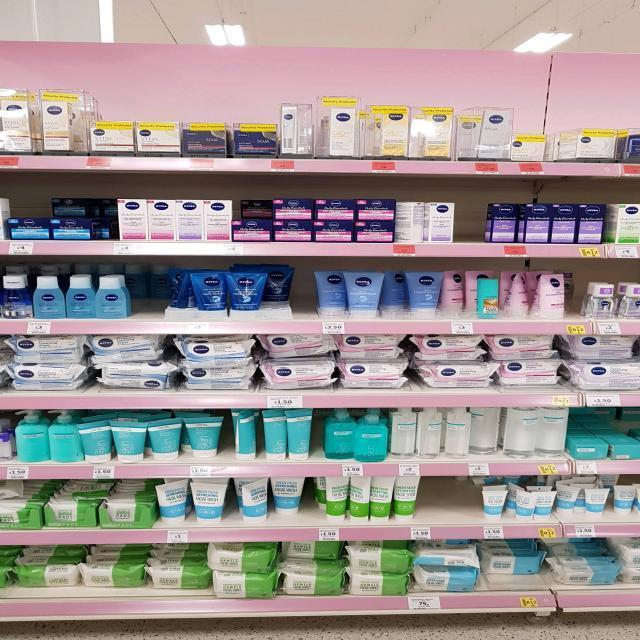empty: (422, 478, 463, 538), (455, 191, 484, 257), (296, 264, 314, 333)
